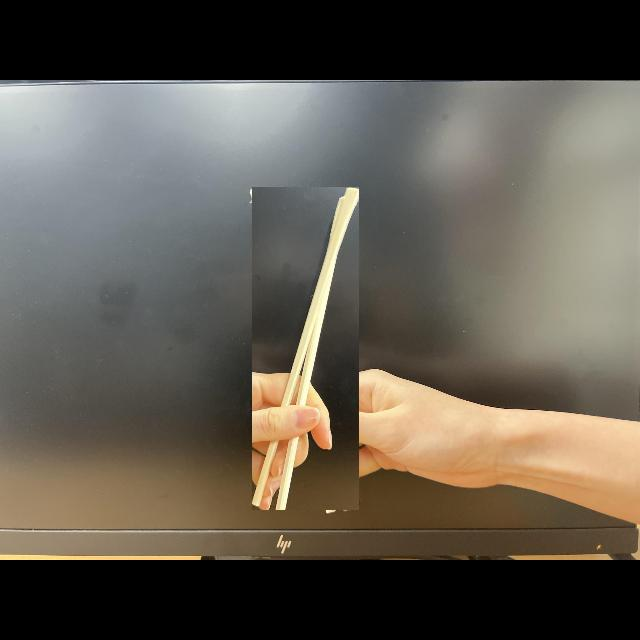stick: (252, 186, 358, 509)
